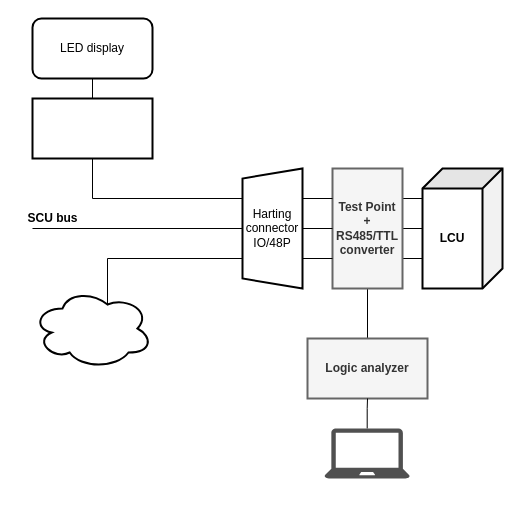
Some shapes in this 520 by 516 pixel diagram are drawn without their labels. Here are the shapes that lost their labels. From the top down, the centre of each, then its label:
At (92,128): "Controller".
At (92,328): "speakers, LED map, CCTV".
At (366,453): "PC".
